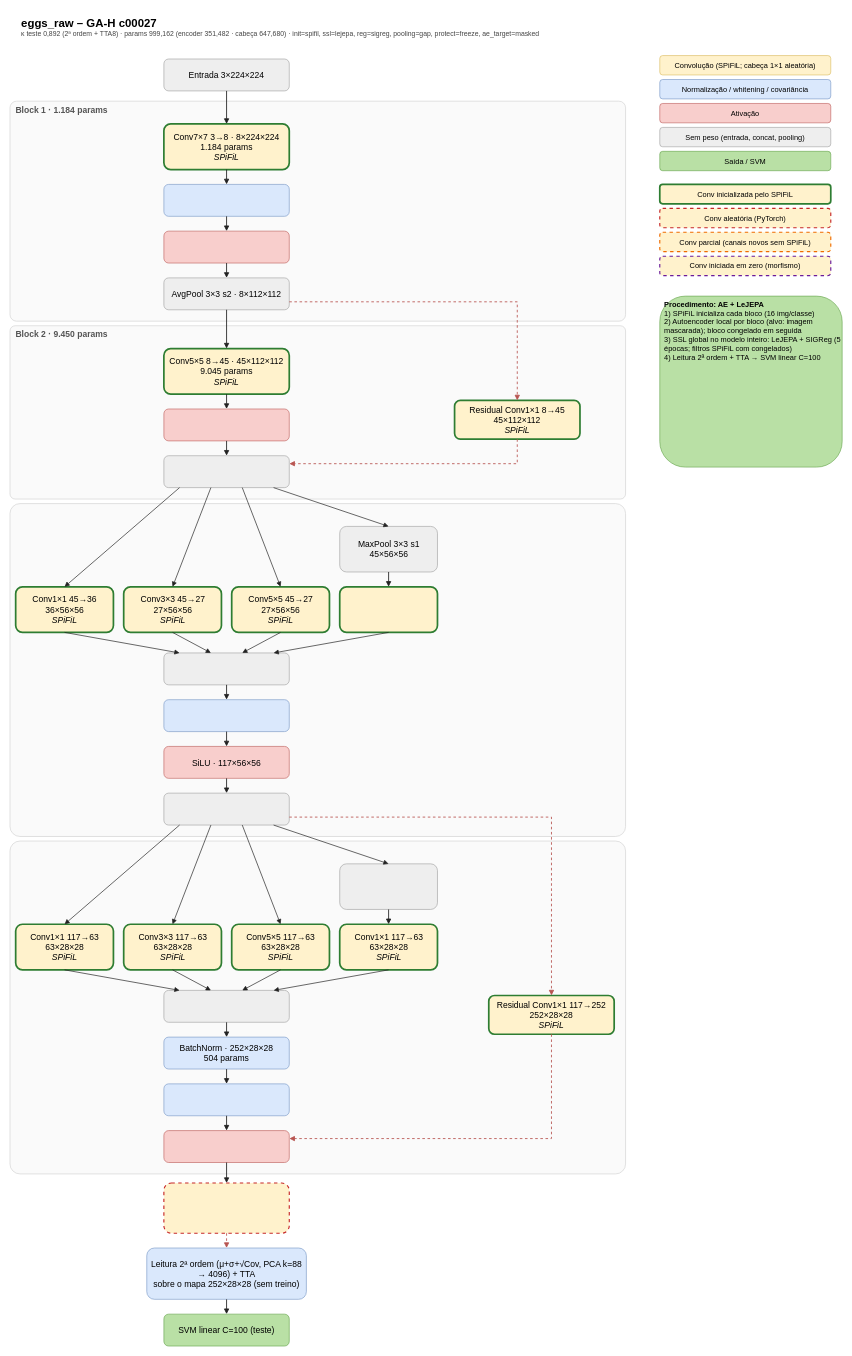
This 852x1356 diagram has some shape labels left out. Each missing label, with the box of its shape:
AvgPool 3×3 s2 · 117×28×28: (163, 793, 289, 825)
BatchNorm · 117×56×56 234 params: (163, 699, 289, 732)
Block 3 · 44.496 params: (9, 503, 626, 836)
Block 4 · 296.352 params: (9, 840, 626, 1174)
Cabeça Conv1×1 252→2560 · 2560×28×28 647.680 params aleatória: (163, 1182, 290, 1233)
Concat → 117 canais: (163, 652, 289, 685)
Concat → 252 canais: (163, 990, 289, 1022)
Conv1×1 45→27 27×56×56 SPiFiL: (339, 586, 438, 633)
DBN · 252×28×28 504 params: (163, 1083, 289, 1116)
GELU · 45×112×112: (163, 408, 289, 441)
MaxPool 3×3 s1 117×28×28: (339, 863, 437, 909)
MaxPool 3×3 s2 · 45×56×56: (163, 455, 289, 488)
SELU · 8×224×224: (163, 231, 289, 263)
SiLU · 252×28×28: (163, 1130, 289, 1163)
ZCA · 8×224×224: (163, 184, 289, 216)
